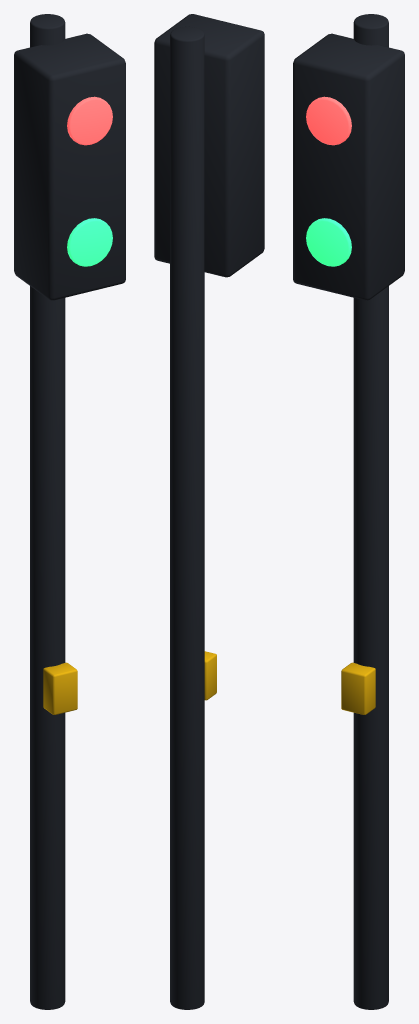
The model's file is trafficlight-872060b575eb.glb.
The picture shows the model from 3 angles, left to right: view 1: azimuth 30°, elevation 25°; view 2: azimuth 150°, elevation 25°; view 3: azimuth 330°, elevation 25°; orthographic projection.
Parts seen in each view (by area): view 1: Mesh_Powder_Iron, Light_Green, Light_Red, Call_Button; view 2: Mesh_Powder_Iron, Call_Button; view 3: Mesh_Powder_Iron, Light_Green, Light_Red, Call_Button.
Boxes of the visible parts, left/top/right/bottom form: Mesh_Powder_Iron: left=14, top=14, right=125, bottom=1009; Light_Green: left=67, top=218, right=112, bottom=266; Light_Red: left=67, top=96, right=112, bottom=145; Call_Button: left=43, top=662, right=77, bottom=714; Mesh_Powder_Iron: left=154, top=14, right=264, bottom=1009; Call_Button: left=204, top=651, right=216, bottom=700; Mesh_Powder_Iron: left=293, top=14, right=404, bottom=1009; Light_Green: left=306, top=218, right=351, bottom=266; Light_Red: left=306, top=96, right=351, bottom=145; Call_Button: left=341, top=662, right=375, bottom=714.
Bounding box in the file's own units: 0.28 × 3.4 × 0.33.
